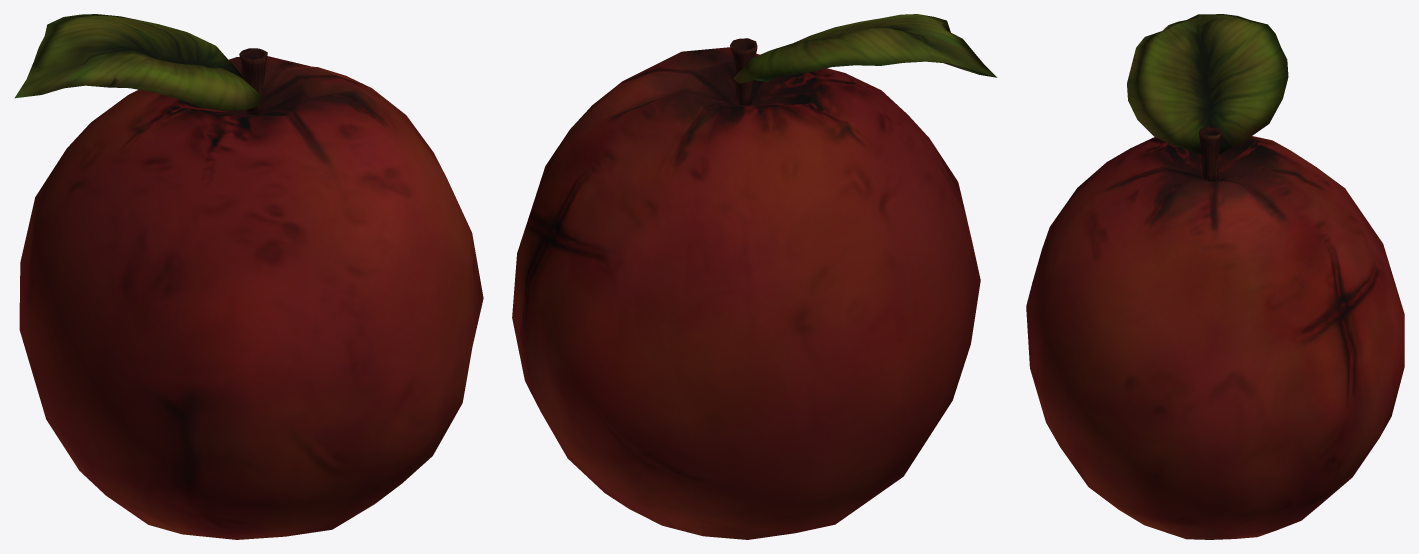
File: manzana.glb
3 views of the same model, side by side, from view 1: azimuth 30°, elevation 25°; view 2: azimuth 150°, elevation 25°; view 3: azimuth 270°, elevation 25° (orthographic). The views are drawn at different scales.
Visible parts, largest first — view 1: Object_2, Object_3, Object_4; view 2: Object_2, Object_3, Object_4; view 3: Object_2, Object_3, Object_4.
Boxes of the visible parts, x1,y1,x2,y2 form: Object_2: (19,56,483,539); Object_3: (15,14,262,110); Object_4: (239,48,267,114); Object_2: (512,47,980,539); Object_3: (733,14,997,83); Object_4: (730,38,757,105); Object_2: (1026,136,1404,539); Object_3: (1127,14,1288,154); Object_4: (1199,126,1221,181).
Size of the model in its own units: 16.74 by 18.33 by 14.75.
3 materials, 3 textured.
